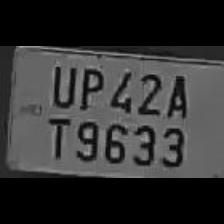2: (133, 67, 161, 115)
3: (157, 121, 185, 167), (128, 120, 155, 166)
4: (104, 65, 134, 113)
6: (100, 118, 128, 164)
9: (71, 115, 99, 163)
A: (162, 68, 188, 118)
P: (76, 62, 104, 112)
T: (42, 111, 70, 160)
U: (47, 60, 75, 108)
